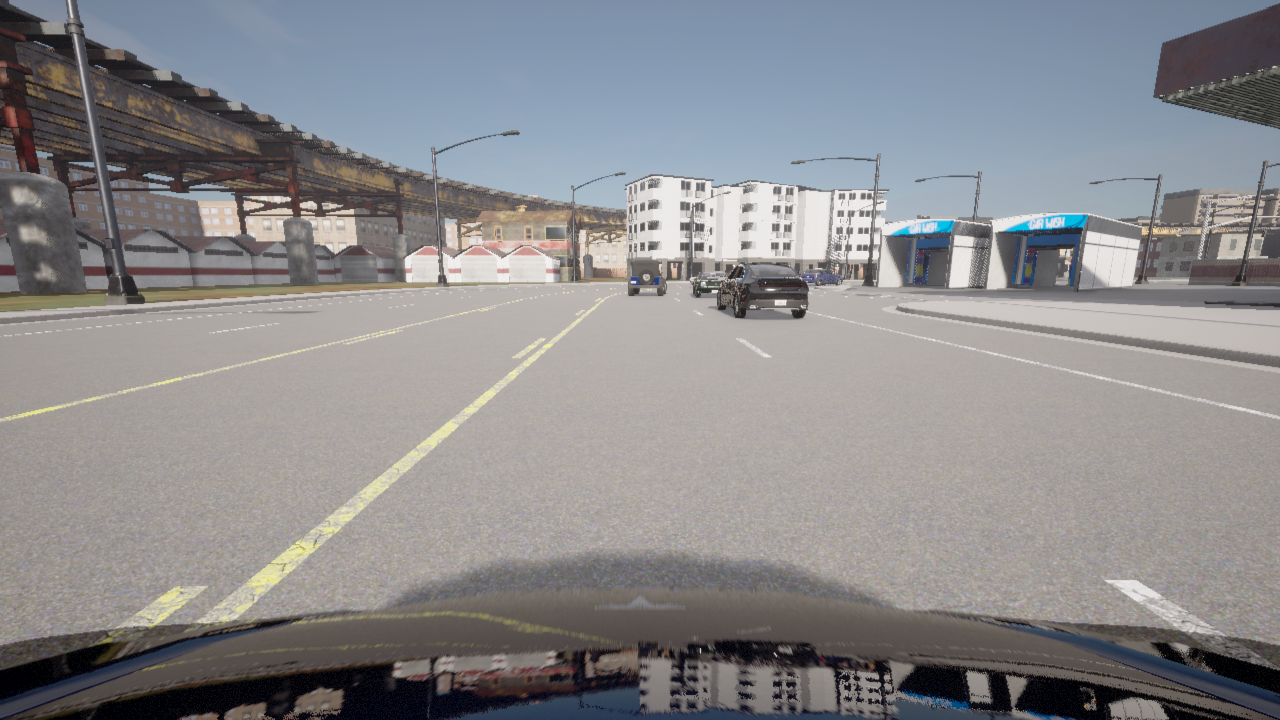cyclist: (0, 588, 1279, 719), (717, 262, 808, 317), (628, 260, 666, 295), (693, 272, 728, 297), (801, 269, 842, 285), (690, 275, 697, 284), (796, 271, 801, 276)
